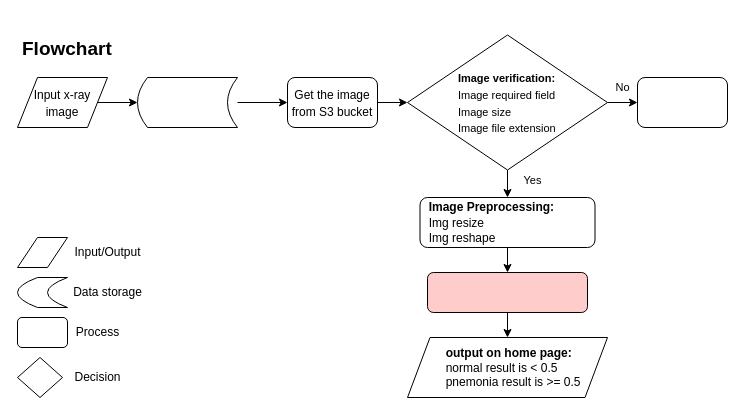
Image size: 745x415. Some labels were removed from this diagram. Here are the shapes that lost their labels. From the top down, the centre of each, then its label:
the point at 187,102: stored into S3 bucket
the point at 682,102: Display failed verification on home page.
the point at 507,292: Use CNN model to predict the output
